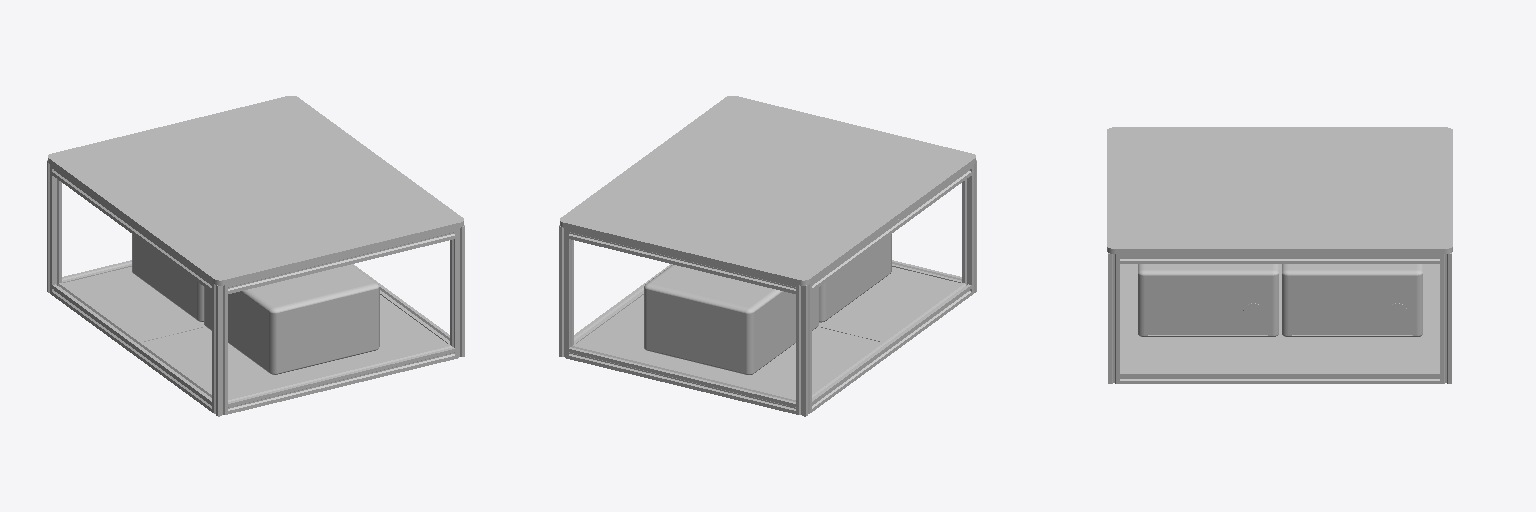
Rendered from table.obj.
3 renders of one model, left to right at view 1: azimuth 30°, elevation 25°; view 2: azimuth 150°, elevation 25°; view 3: azimuth 270°, elevation 25°, orthographic.
Size of the model in its own units: 1 by 0.5205 by 1.2.